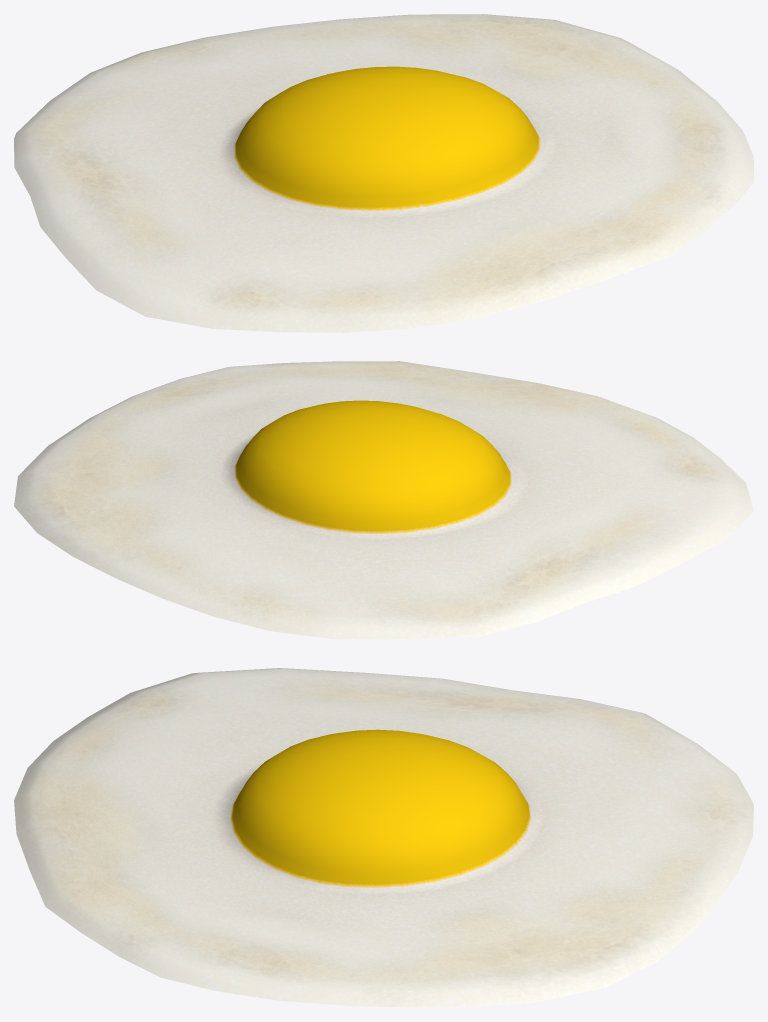
File: Egg_Cracked_13.obj
3 renders of one model, top to bottom at view 1: azimuth 30°, elevation 25°; view 2: azimuth 150°, elevation 25°; view 3: azimuth 270°, elevation 25°, orthographic. The views are drawn at different scales.
Parts seen in each view (by area): view 1: fried_egg_12; view 2: fried_egg_12; view 3: fried_egg_12.
Boxes of the visible parts, left/top/right/bottom form: fried_egg_12: left=14, top=14, right=753, bottom=332; fried_egg_12: left=14, top=361, right=753, bottom=639; fried_egg_12: left=14, top=668, right=753, bottom=1007.
Bounding box in the file's own units: 0.1221 × 0.014 × 0.1124.
